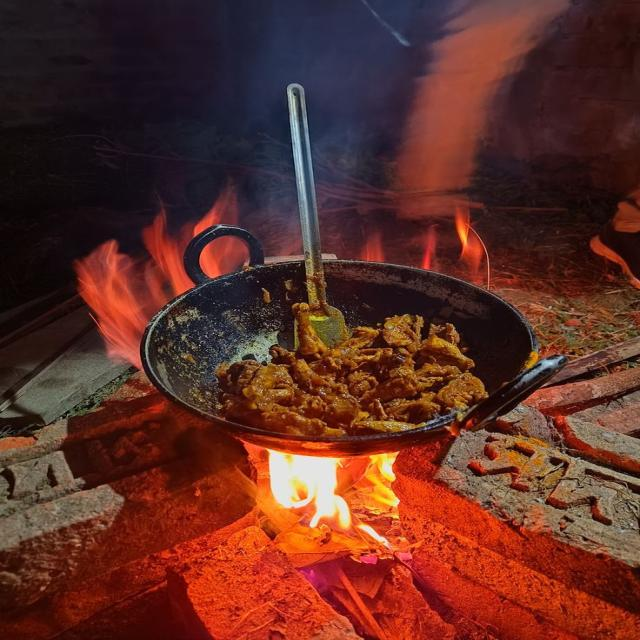fire: (75, 239, 157, 369), (146, 201, 247, 292), (269, 448, 351, 528), (451, 204, 491, 284), (362, 450, 401, 516), (412, 223, 443, 270)
